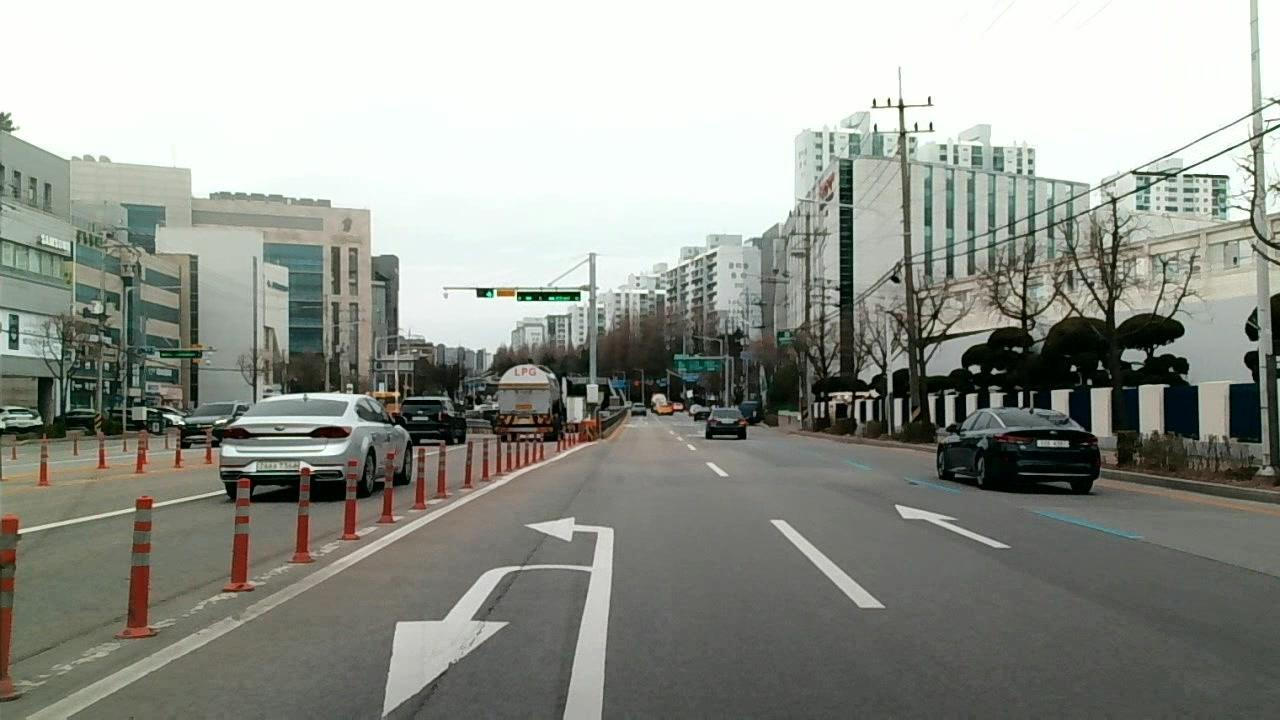vcrack: (401, 610, 493, 720), (498, 532, 551, 600)
